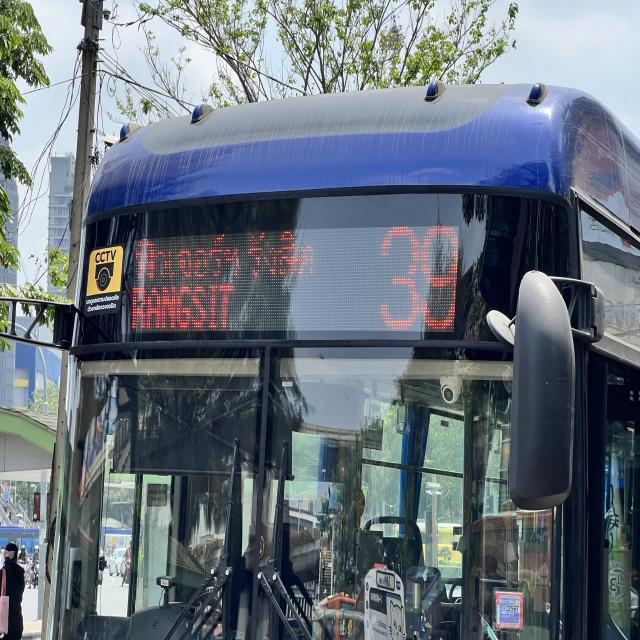Bus-Line-Number: (363, 212, 471, 342)
Destination-Sign-Normal: (128, 224, 320, 337)
TSB-Bus: (37, 83, 640, 640)
